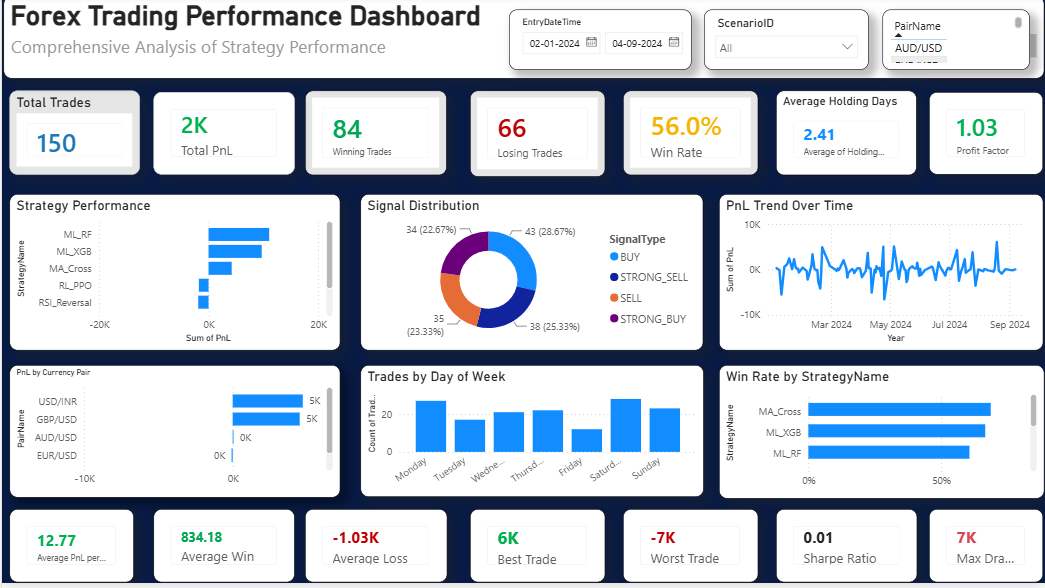

What the dashboard file says about the page in this screenshot:
{"tool":"powerbi","page":{"name":"Page 1","canvas":[1280,720],"ordinal":0},"visuals":[{"type":"cardVisual","title":"Total Trades","fields":{"Data":["CountNonNull(trade_log.TradeID)"]},"box":[9.2,116,160.2,103.1],"z":0},{"type":"cardVisual","fields":{"Data":["forex_price_data.Winning Trades"]},"box":[372,116,174,104],"z":1000},{"type":"cardVisual","fields":{"Data":["forex_price_data.Losing Trades"]},"box":[574,116,166,106],"z":2000},{"type":"cardVisual","fields":{"Data":["forex_price_data.Win Rate"]},"box":[762,116,166,104],"z":3000},{"type":"clusteredBarChart","title":"Strategy Performance","fields":{"Category":["trade_log.StrategyName"],"Y":["Sum(trade_log.PnL)"]},"box":[8.3,243.8,406.2,191.7],"z":4000},{"type":"donutChart","title":"Signal Distribution","fields":{"Category":["trade_log.SignalType"],"Y":["CountNonNull(trade_log.TradeID)"]},"box":[439.6,243.8,420.8,191.7],"z":5000},{"type":"lineChart","title":"PnL Trend Over Time","fields":{"Y":["Sum(trade_log.PnL)"],"Category":["trade_log.ExitDateTime.Variation.Date Hierarchy.Year","trade_log.ExitDateTime.Variation.Date Hierarchy.Quarter","trade_log.ExitDateTime.Variation.Date Hierarchy.Month","trade_log.ExitDateTime.Variation.Date Hierarchy.Day"]},"box":[879.2,243.8,397.9,191.7],"z":6000},{"type":"clusteredBarChart","title":"PnL by Currency Pair","fields":{"Category":["trade_log.PairName"],"Y":["Sum(trade_log.PnL)"]},"box":[8.3,452.1,406.2,162.5],"z":7000},{"type":"slicer","fields":{"Values":["trade_log.PairName"]},"box":[1122.9,23.9,154.6,68.1],"z":8000},{"type":"cardVisual","title":"Average Holding Days","fields":{"Data":["Avg(trade_log.HoldingDays)"]},"box":[950,116.7,172.9,104.2],"z":9000},{"type":"textbox","title":" Forex Trading Performance Dashboard","box":[1.8,0,1277.6,101.2],"z":10000},{"type":"clusteredColumnChart","title":"Trades by Day of Week","fields":{"Category":["trade_log.DayOfWeek"],"Y":["CountNonNull(trade_log.TradeID)"]},"box":[440,452.9,421.6,162],"z":11000},{"type":"clusteredBarChart","fields":{"Category":["trade_log.StrategyName"],"Y":["forex_price_data.Win Rate"]},"box":[879.9,452.9,399.5,163.8],"z":12000},{"type":"cardVisual","fields":{"Data":["forex_price_data.Average PnL per Trade"]},"box":[9.2,629.6,152.8,90.2],"z":13000},{"type":"cardVisual","fields":{"Data":["trade_log.Average Win"]},"box":[185.9,629.6,173,90.2],"z":14000},{"type":"cardVisual","fields":{"Data":["trade_log.Average Loss"]},"box":[371.9,629.6,174.9,90.2],"z":15000},{"type":"cardVisual","fields":{"Data":["trade_log.Best Trade"]},"box":[574.3,629.6,165.7,90.2],"z":16000},{"type":"cardVisual","fields":{"Data":["trade_log.Worst Trade"]},"box":[762.1,629.6,165.7,90.2],"z":17000},{"type":"cardVisual","fields":{"Data":["trade_log.Sharpe Ratio"]},"box":[949.9,629.6,173,90.2],"z":18000},{"type":"cardVisual","fields":{"Data":["trade_log.Max Drawdown"]},"box":[1137.6,629.6,139.9,90.2],"z":19000},{"type":"slicer","fields":{"Values":["mc_scenarios.ScenarioID"]},"box":[860.9,17.4,202.2,73.9],"z":20000},{"type":"tableEx","fields":{"Values":["trade_log.PairName"]},"box":[1080.4,17.4,180.4,73.9],"z":21000},{"type":"slicer","fields":{"Values":["trade_log.EntryDateTime"]},"box":[621.7,17.4,223.9,73.9],"z":22000},{"type":"cardVisual","fields":{"Data":["trade_log.Profit Factor"]},"box":[1137.6,117.8,139.9,101.2],"z":23000},{"type":"cardVisual","title":"Profit & Loss Trend","fields":{"Data":["forex_price_data.Total PnL"]},"box":[185.9,117.8,173,101.2],"z":24000}]}

Visuals, with their boxes in screenshot pixels (x1, y1, x2, y2), scaled from the page's 1280x720 canvas onto the 1045x588 screenshot:
"Total Trades" cardVisual: <region>8, 95, 138, 179</region>
cardVisual - forex_price_data.Winning Trades: <region>304, 95, 446, 180</region>
cardVisual - forex_price_data.Losing Trades: <region>469, 95, 604, 181</region>
cardVisual - forex_price_data.Win Rate: <region>622, 95, 758, 180</region>
"Strategy Performance" clusteredBarChart: <region>7, 199, 338, 356</region>
"Signal Distribution" donutChart: <region>359, 199, 702, 356</region>
"PnL Trend Over Time" lineChart: <region>718, 199, 1043, 356</region>
"PnL by Currency Pair" clusteredBarChart: <region>7, 369, 338, 502</region>
slicer - trade_log.PairName: <region>917, 20, 1043, 75</region>
"Average Holding Days" cardVisual: <region>776, 95, 917, 180</region>
" Forex Trading Performance Dashboard" textbox: <region>1, 0, 1044, 83</region>
"Trades by Day of Week" clusteredColumnChart: <region>359, 370, 703, 502</region>
clusteredBarChart - trade_log.StrategyName x forex_price_data.Win Rate: <region>718, 370, 1044, 504</region>
cardVisual - forex_price_data.Average PnL per Trade: <region>8, 514, 132, 587</region>
cardVisual - trade_log.Average Win: <region>152, 514, 293, 587</region>
cardVisual - trade_log.Average Loss: <region>304, 514, 446, 587</region>
cardVisual - trade_log.Best Trade: <region>469, 514, 604, 587</region>
cardVisual - trade_log.Worst Trade: <region>622, 514, 757, 587</region>
cardVisual - trade_log.Sharpe Ratio: <region>776, 514, 917, 587</region>
cardVisual - trade_log.Max Drawdown: <region>929, 514, 1043, 587</region>
slicer - mc_scenarios.ScenarioID: <region>703, 14, 868, 75</region>
tableEx - trade_log.PairName: <region>882, 14, 1029, 75</region>
slicer - trade_log.EntryDateTime: <region>508, 14, 690, 75</region>
cardVisual - trade_log.Profit Factor: <region>929, 96, 1043, 179</region>
"Profit & Loss Trend" cardVisual: <region>152, 96, 293, 179</region>
